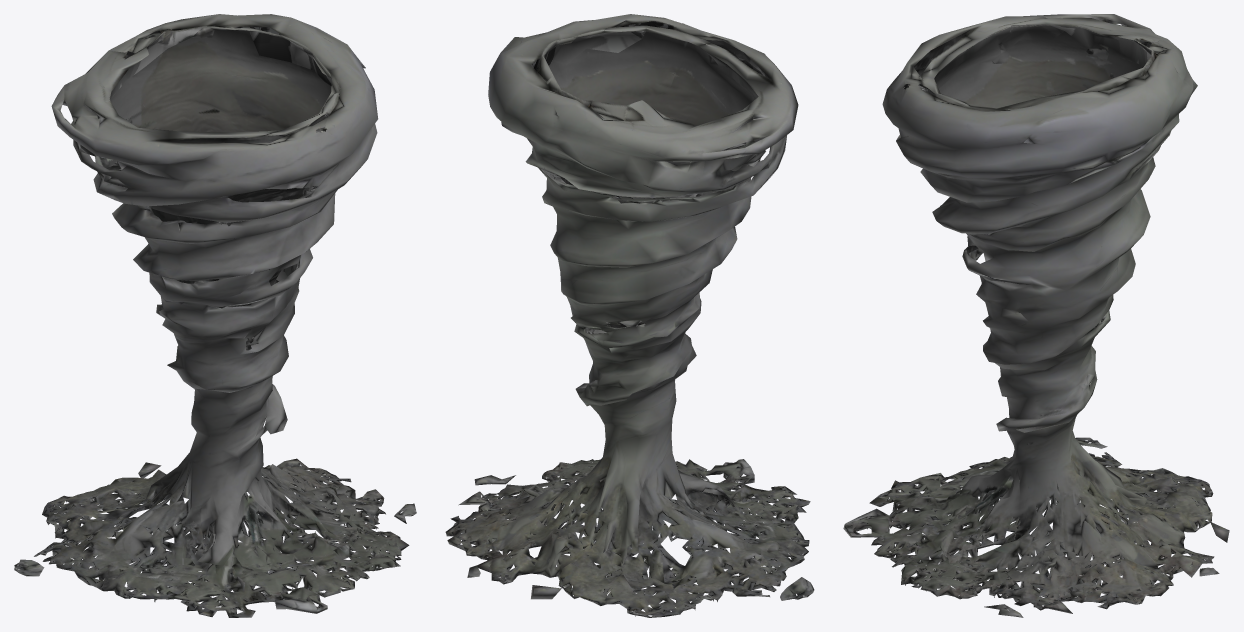
The model's file is Tornado_0710161157_texture.fbx.
3 renders of one model, left to right at view 1: azimuth 30°, elevation 25°; view 2: azimuth 150°, elevation 25°; view 3: azimuth 270°, elevation 25°, orthographic.
Parts seen in each view (by area): view 1: Mesh_0.052; view 2: Mesh_0.052; view 3: Mesh_0.052.
Part boxes in pixels (<box>): Mesh_0.052: <box>14,14,416,617</box>; Mesh_0.052: <box>445,14,814,617</box>; Mesh_0.052: <box>843,14,1229,617</box>.
Bounding box in the file's own units: 160 × 199 × 144.
Materials: 1 (1 with a texture image).
